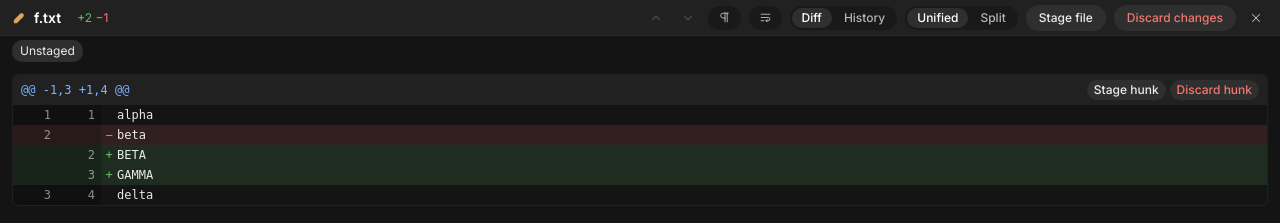
it: DiffView line selection (GC-121) › extends a run with shift, over the changed lines only
The image size is (1280, 223).
Click the row with class "line" showing "2 − beta". click: (640, 135)
box: [13,125,1267,145]
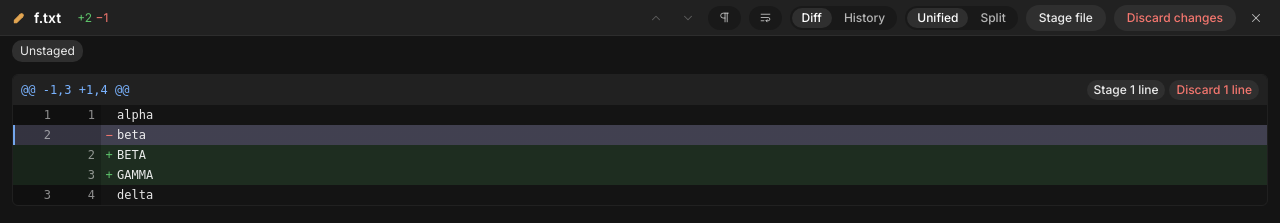
Click the row with class "line" showing "3 + GAMMA". click: (640, 175)
box: [13,165,1267,185]
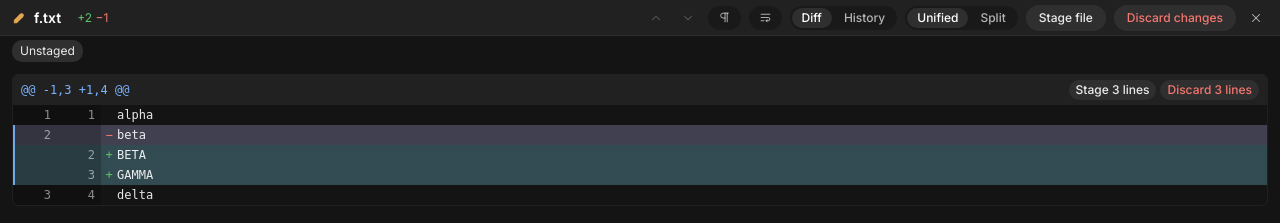
Check: the button "Stage 3 lines" is shown, box [1069,80,1156,100]
